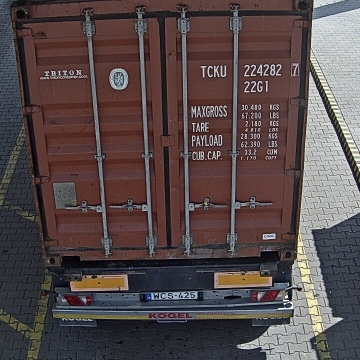serial_id: (200, 63, 299, 77)
